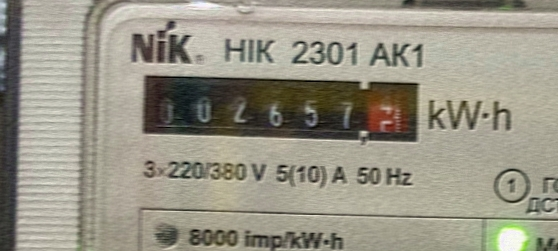0: (197, 91, 213, 121), (159, 93, 176, 121)
2: (233, 92, 250, 121)
4: (380, 86, 395, 112)
5: (305, 95, 321, 125), (380, 115, 395, 130)
6: (270, 95, 284, 125)
7: (341, 95, 356, 127)
screen: (136, 61, 431, 150)
